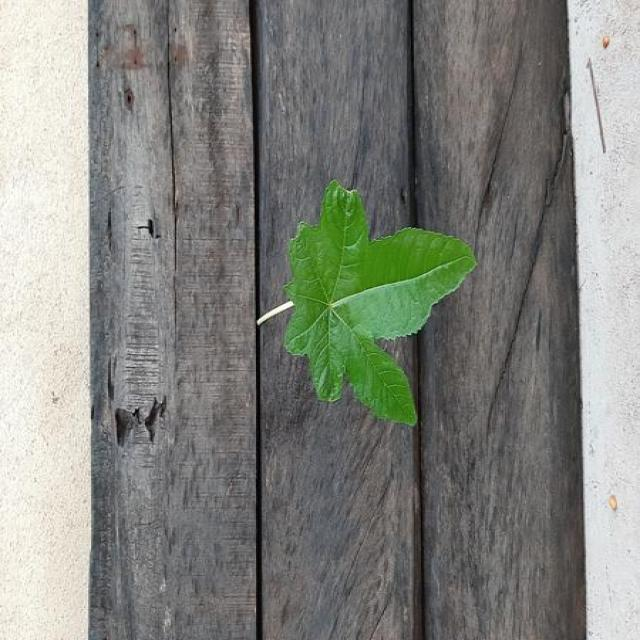castor: (257, 181, 473, 424)
